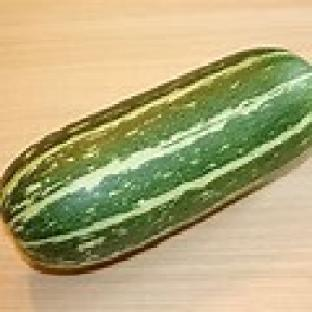Zucchini: (0, 50, 311, 270)
